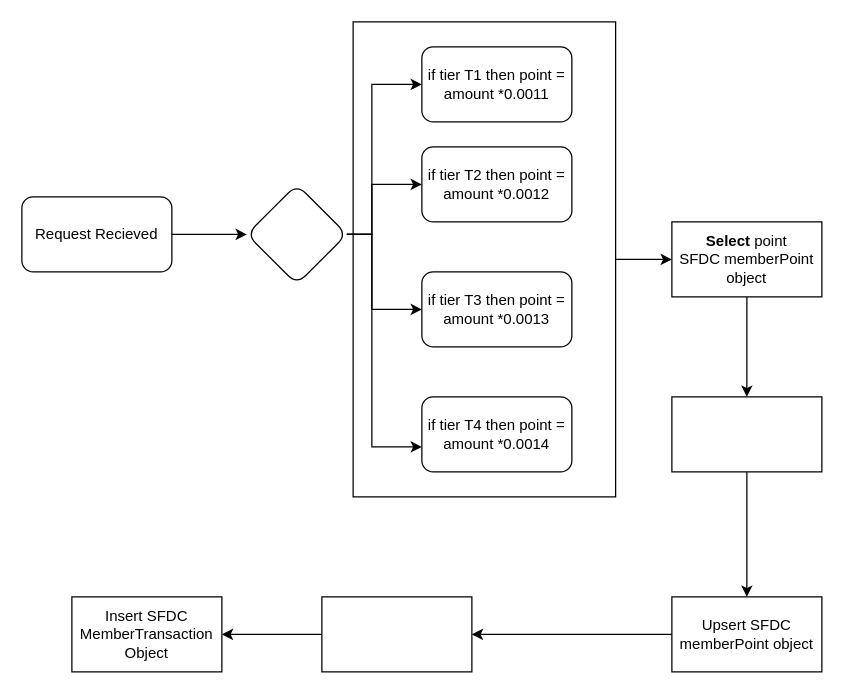
The diagram is 844 pixels wide and 694 high, and some of its shapes have lost their labels. Each missing label, with the centre of its shape:
"Check Member Tier" goes at point (296, 233).
"Transform for member point" goes at point (746, 434).
"Transform for memberTransaction" goes at point (396, 634).
